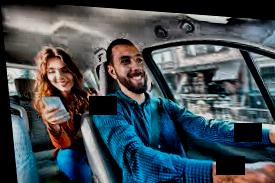seatbelt: (125, 79, 163, 183)
